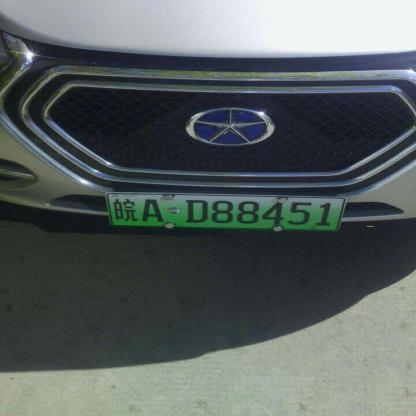lp: (106, 193, 345, 229)
